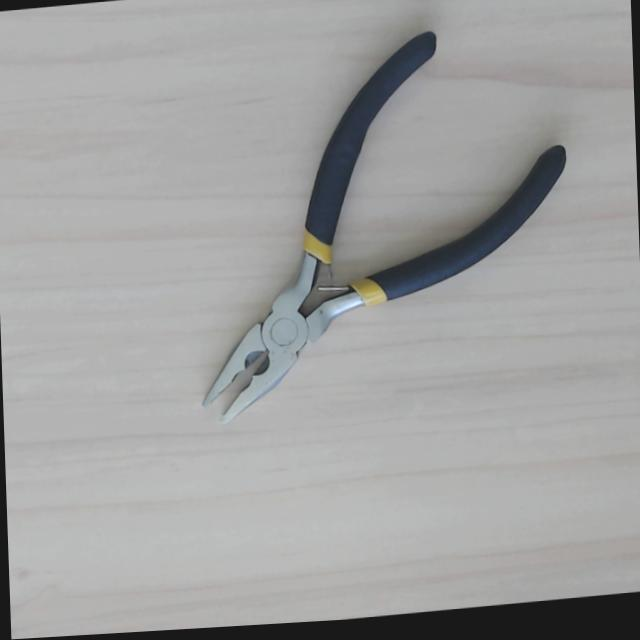Tang-Jepit-Hitam: (133, 21, 578, 484)
